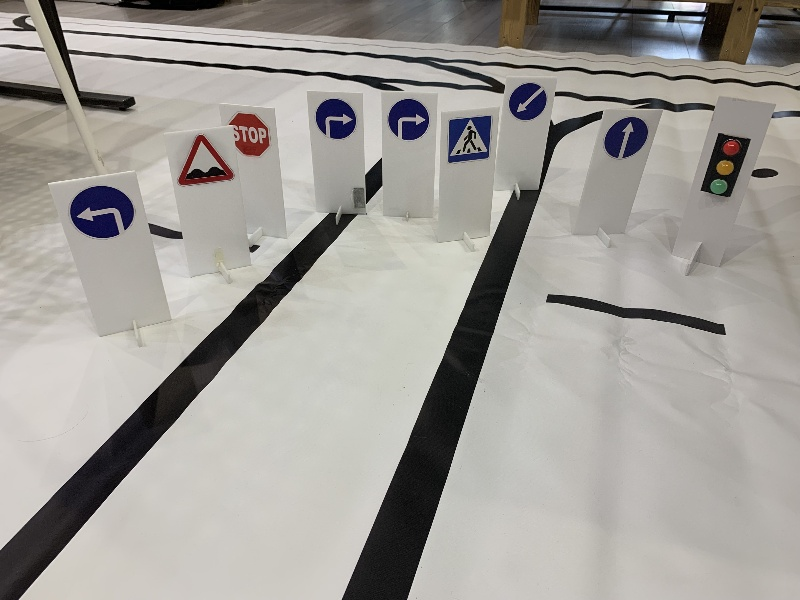Left: (69, 184, 136, 240)
Nerov: (176, 133, 234, 189)
Right: (386, 96, 433, 142), (313, 98, 356, 139)
Stop: (228, 109, 269, 159)
forw: (603, 115, 649, 159)
pesh: (446, 113, 493, 163)
prep: (507, 80, 548, 122)
